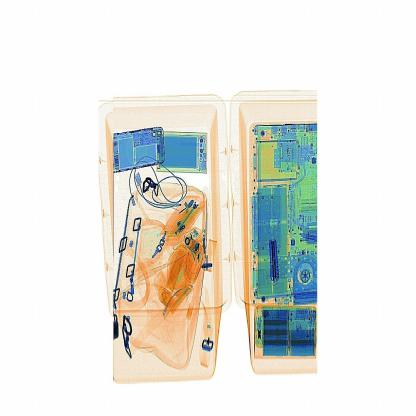scissors: (263, 228, 291, 290)
